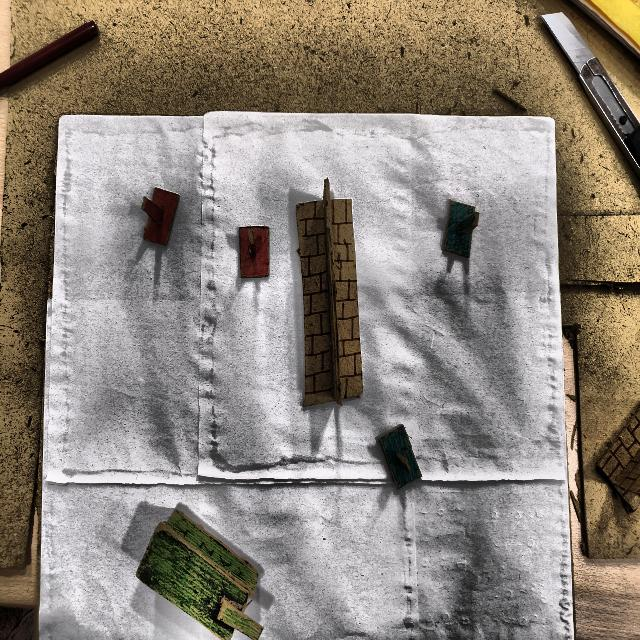Tank: (135, 510, 265, 640)
Wall: (295, 182, 366, 411)
enemy: (137, 186, 183, 253), (235, 225, 272, 299)
friend: (376, 427, 425, 494), (441, 198, 483, 269)
